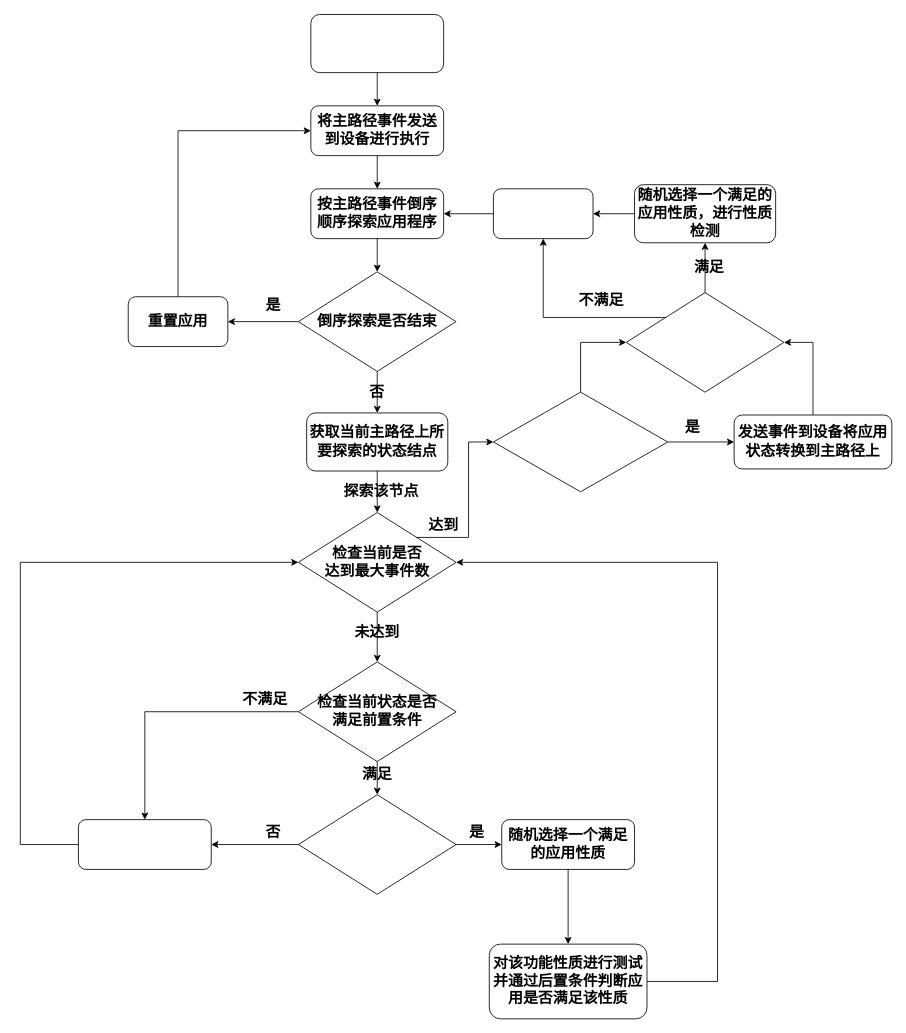
This 906x1033 diagram has some shape labels left out. The shapes that lost their labels are listed below. From the top down, each one's centre as x and y in pixels, then its label:
At (377,43): "定义一个或多个应用功能性质以及性质相关的主路径".
At (543,213): "重启应用".
At (704,342): "检查当前状态是 否满足前置条件".
At (580,441): "当前应用状态 能否 转换到主路径的 某一状态".
At (144,844): "随机生成一个事件 发送给设备并执行".
At (377,844): "是否性质测试".
